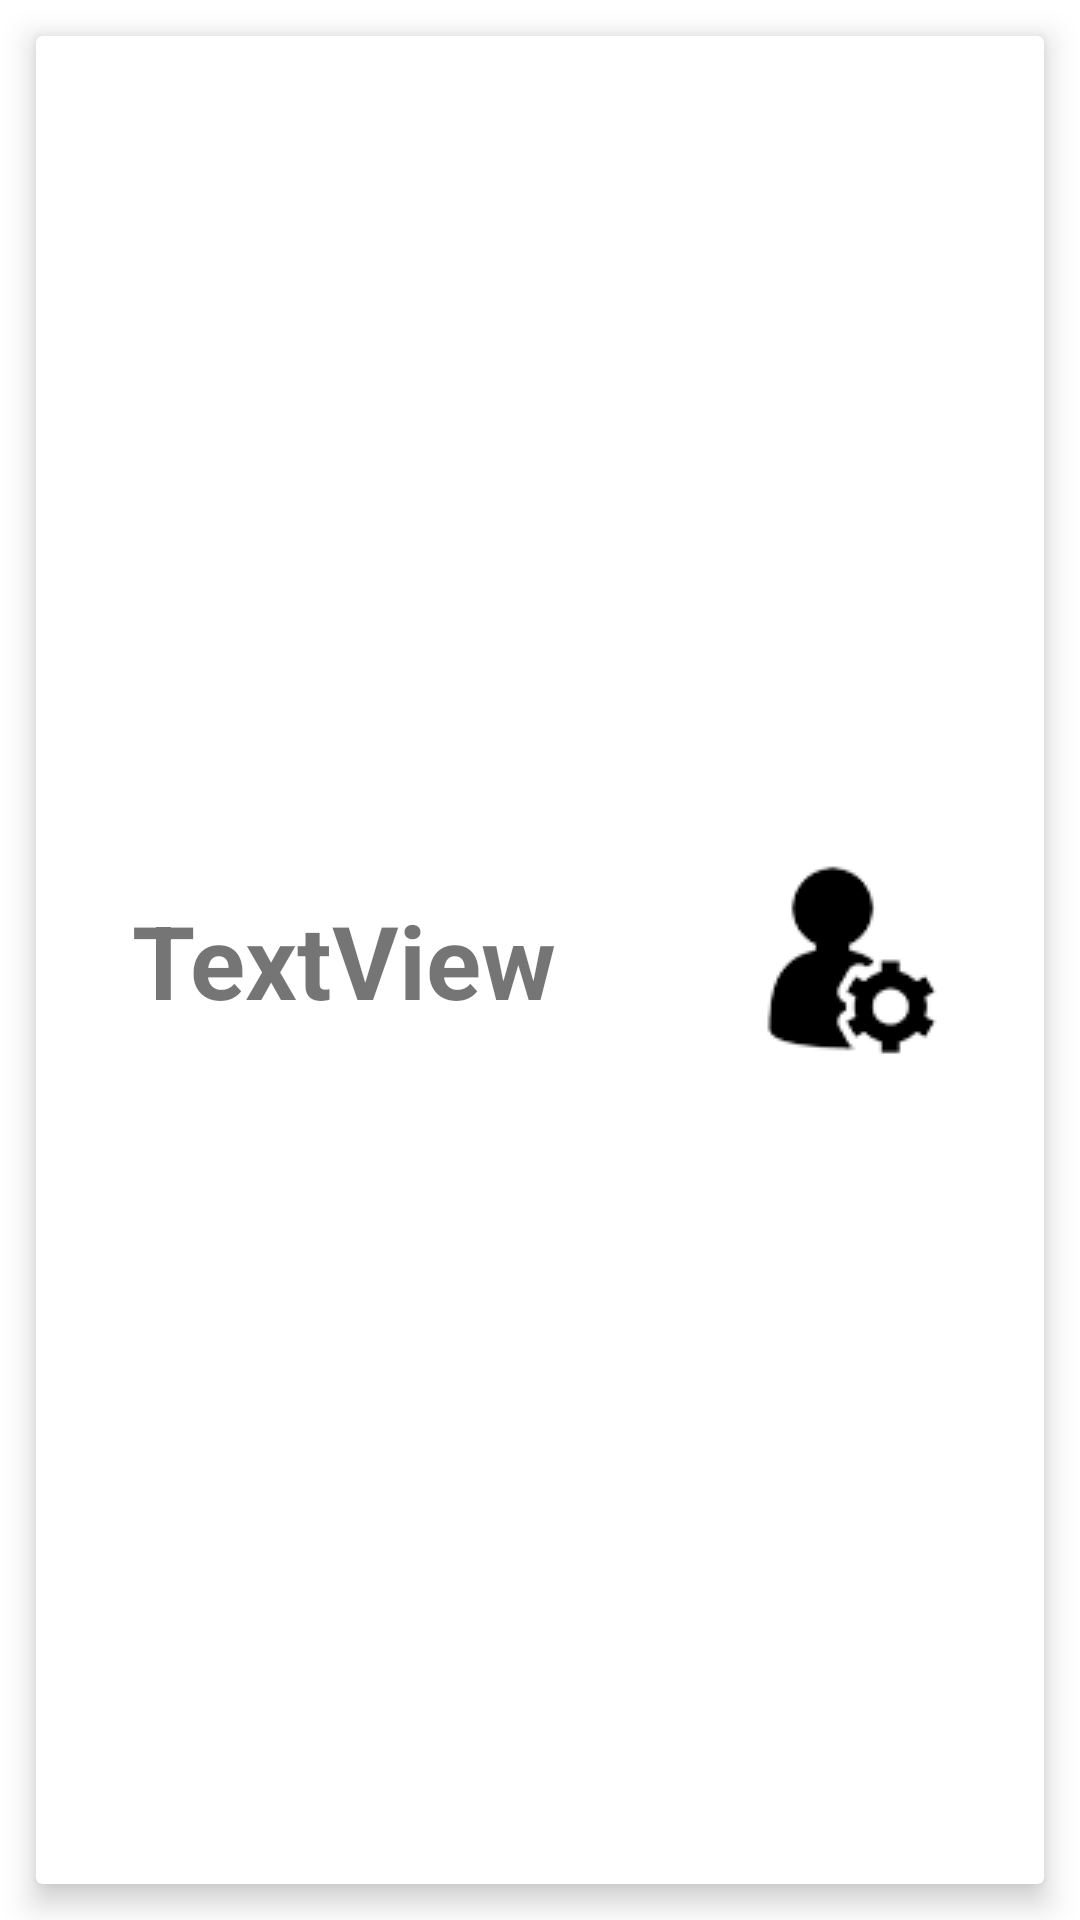

Locate icon controls on the screen. Image size 1080px x 1920px, boxes as (x1, y1, x2, y2).
admin iot: (767, 866, 936, 1054)
